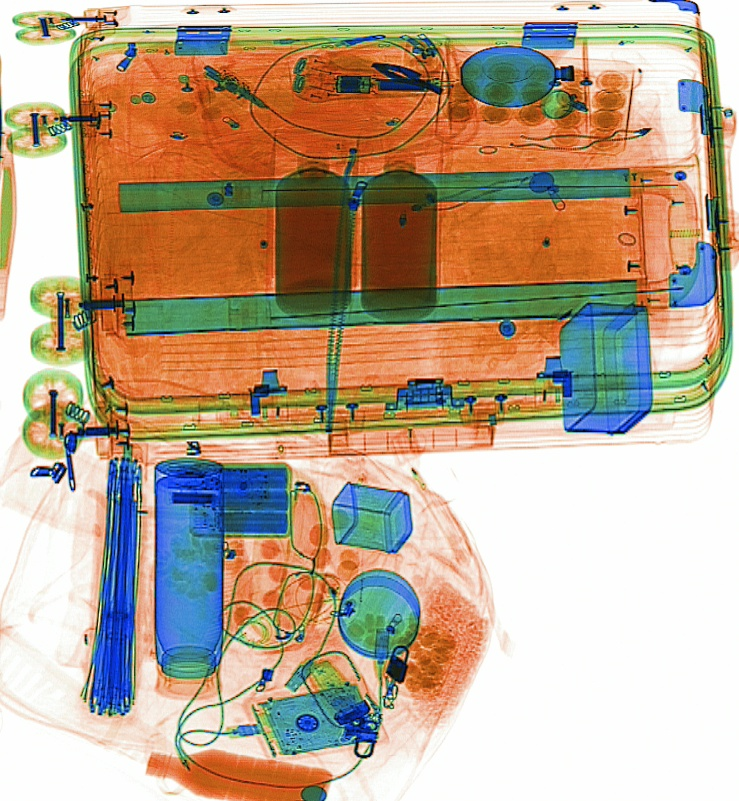powerbank: (185, 459, 294, 541)
